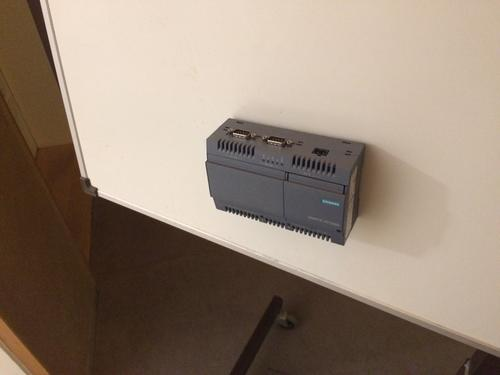iot2000: (204, 117, 366, 247)
